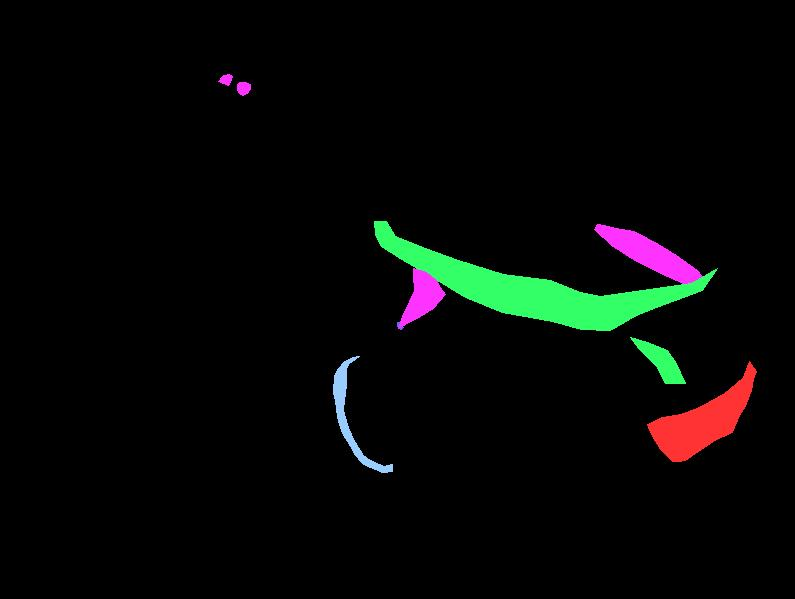Broken part: (374, 221, 717, 330), (630, 337, 685, 383)
Corrosion: (333, 356, 392, 472)
Dent: (594, 224, 704, 285), (398, 268, 445, 328), (237, 82, 250, 95), (218, 74, 232, 85)
Missing part: (647, 361, 756, 461)
Scratch: (397, 322, 403, 329)
